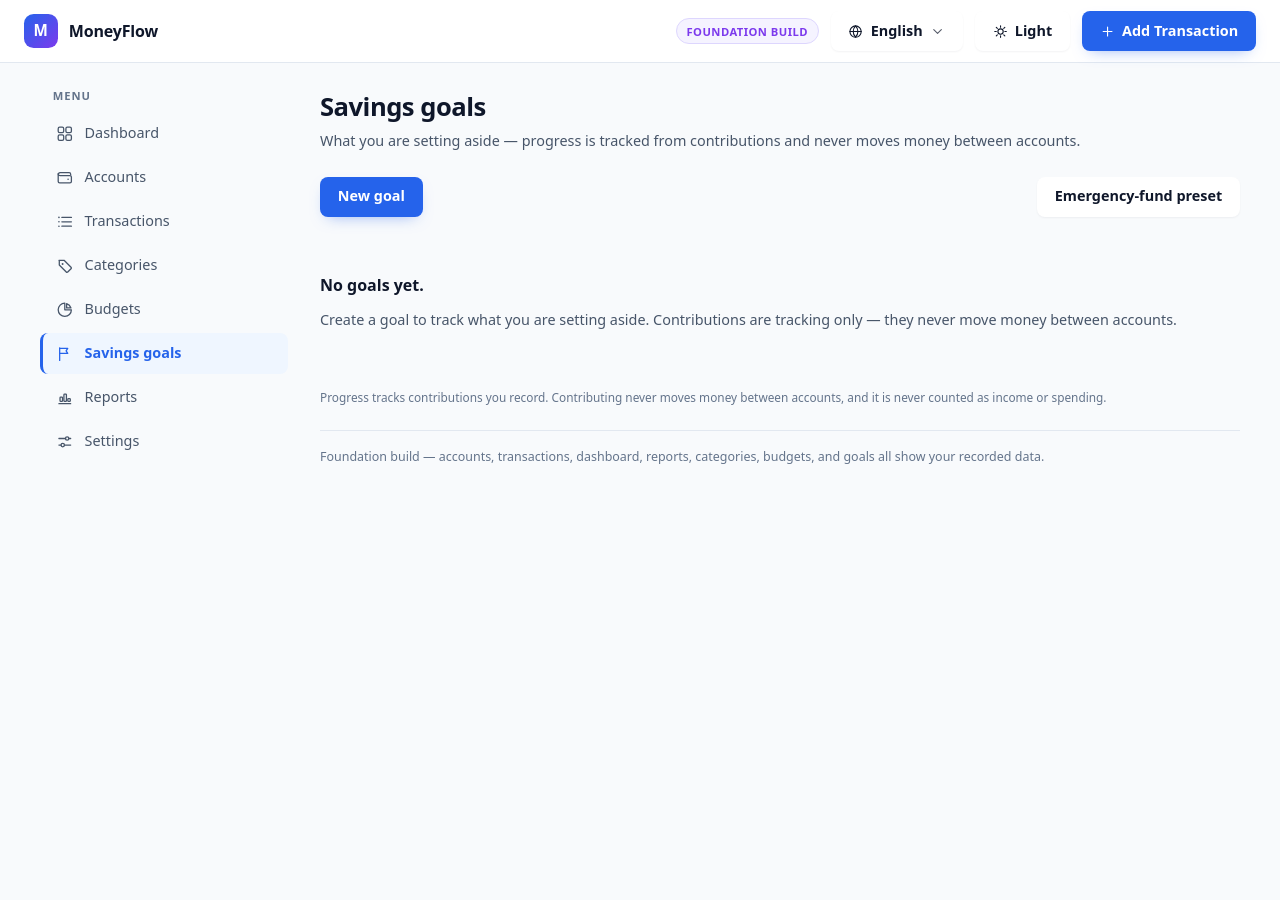
Test case: goals route (wired to the IT-10 goal endpoints) › surfaces a server rejection above the form and keeps it open
The width and height of the screenshot is (1280, 900).
Step 1. Click the button "New goal" → [371, 196], box [320,176,423,216]
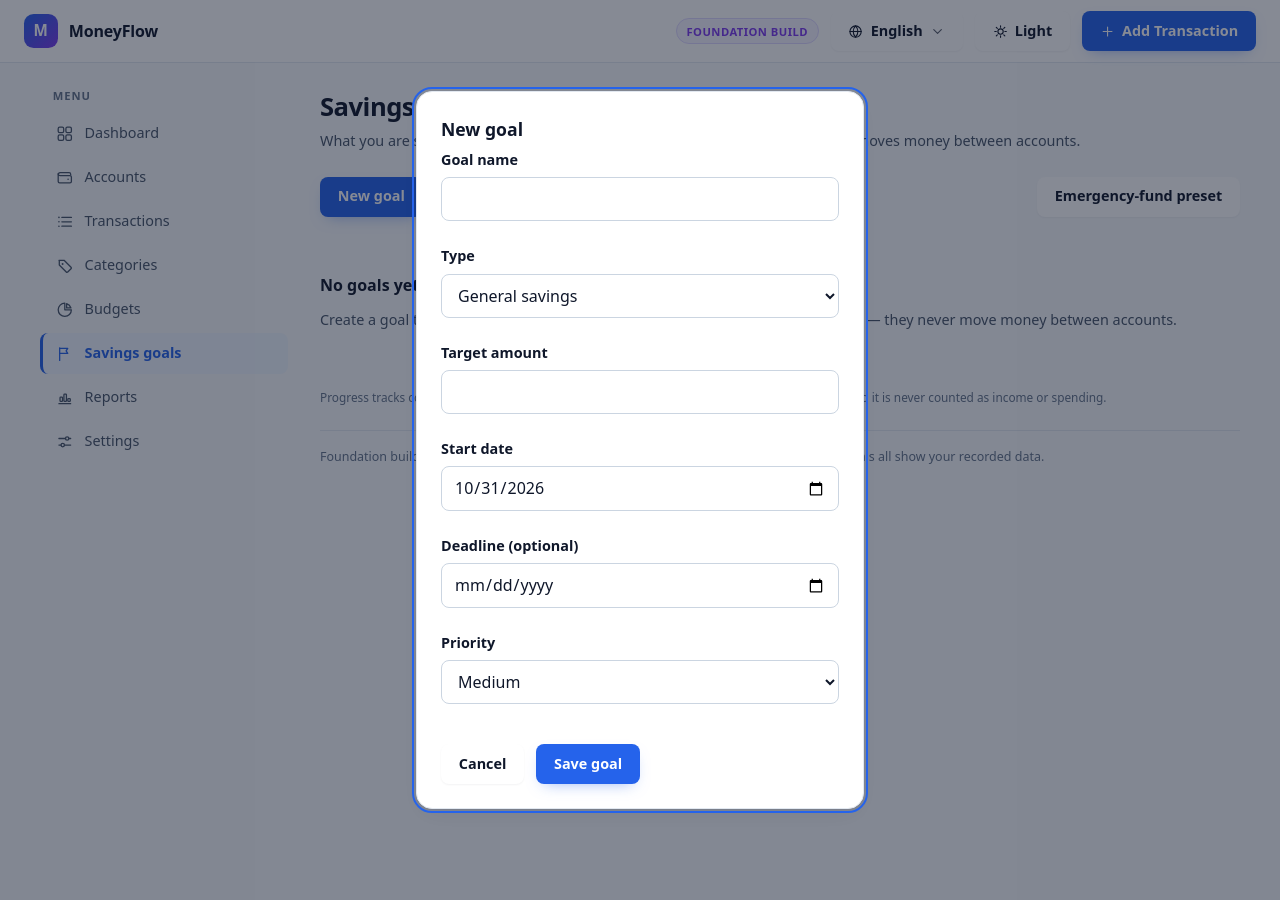
Step 2. Type "Goal" into the field labelled "Goal name" → [640, 199], box [441,177,839,221]
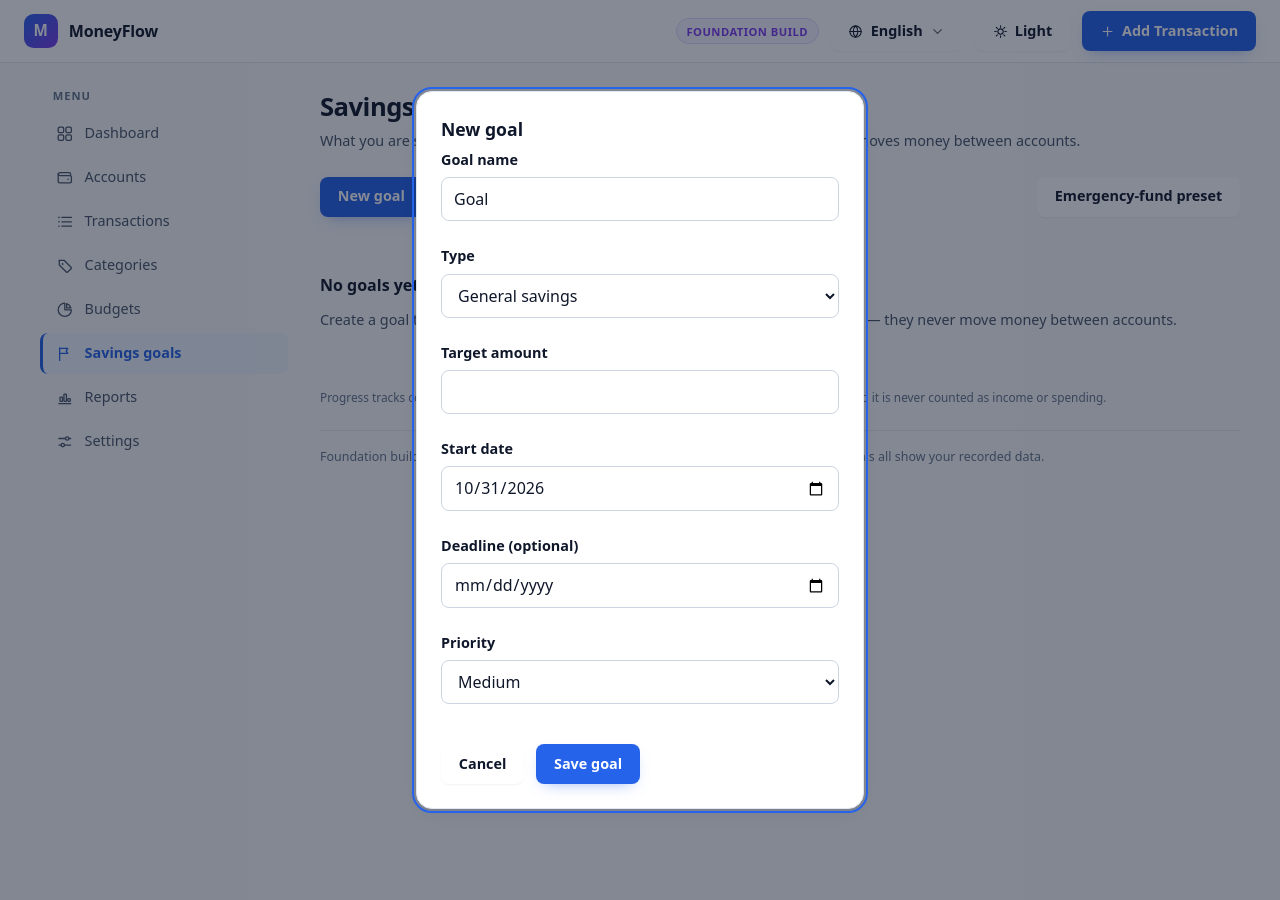
Step 3. Type "100" into the field labelled "Target amount" → [640, 392], box [441,370,839,414]
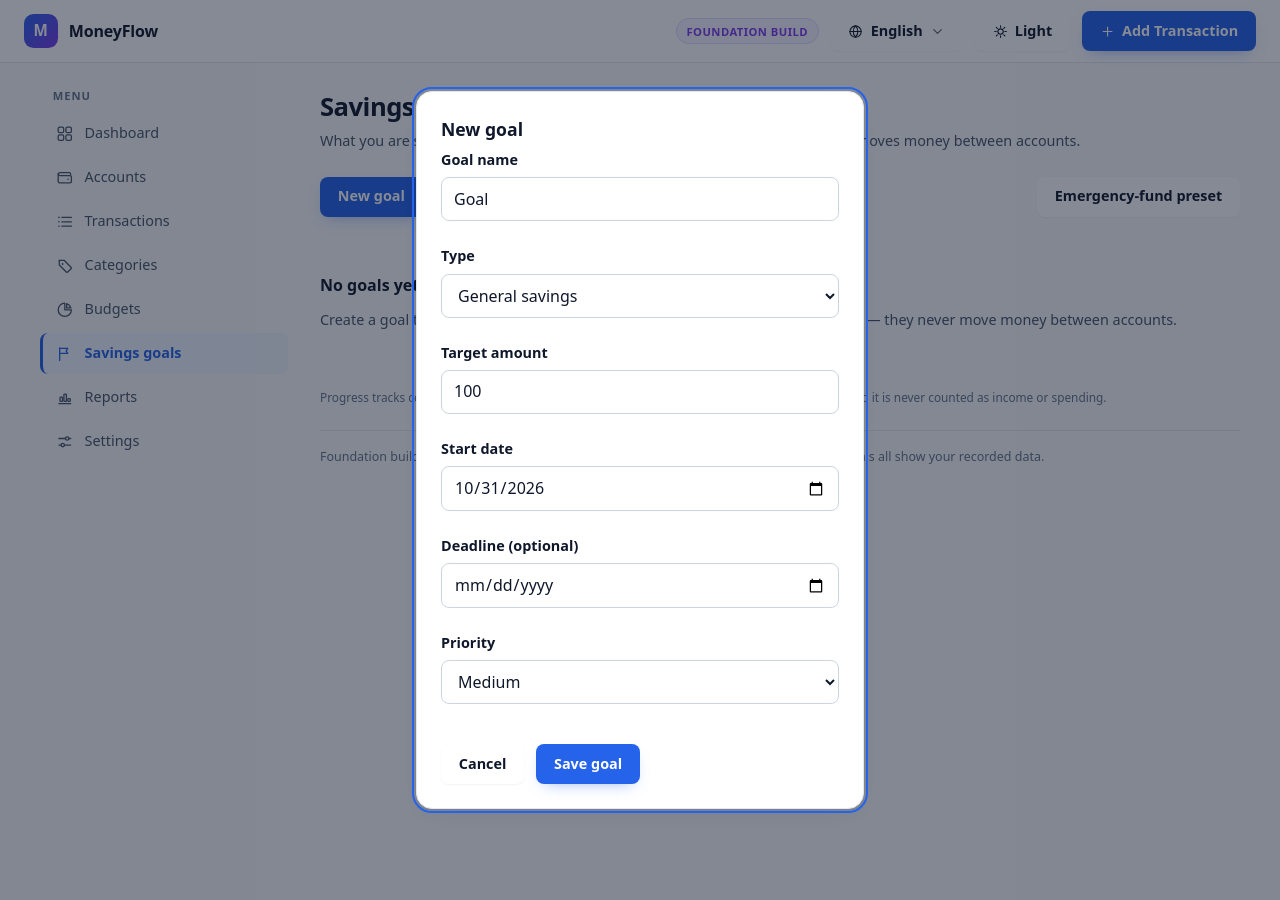
Step 4. Click the button "Save goal" → [588, 764], box [536,744,640,784]
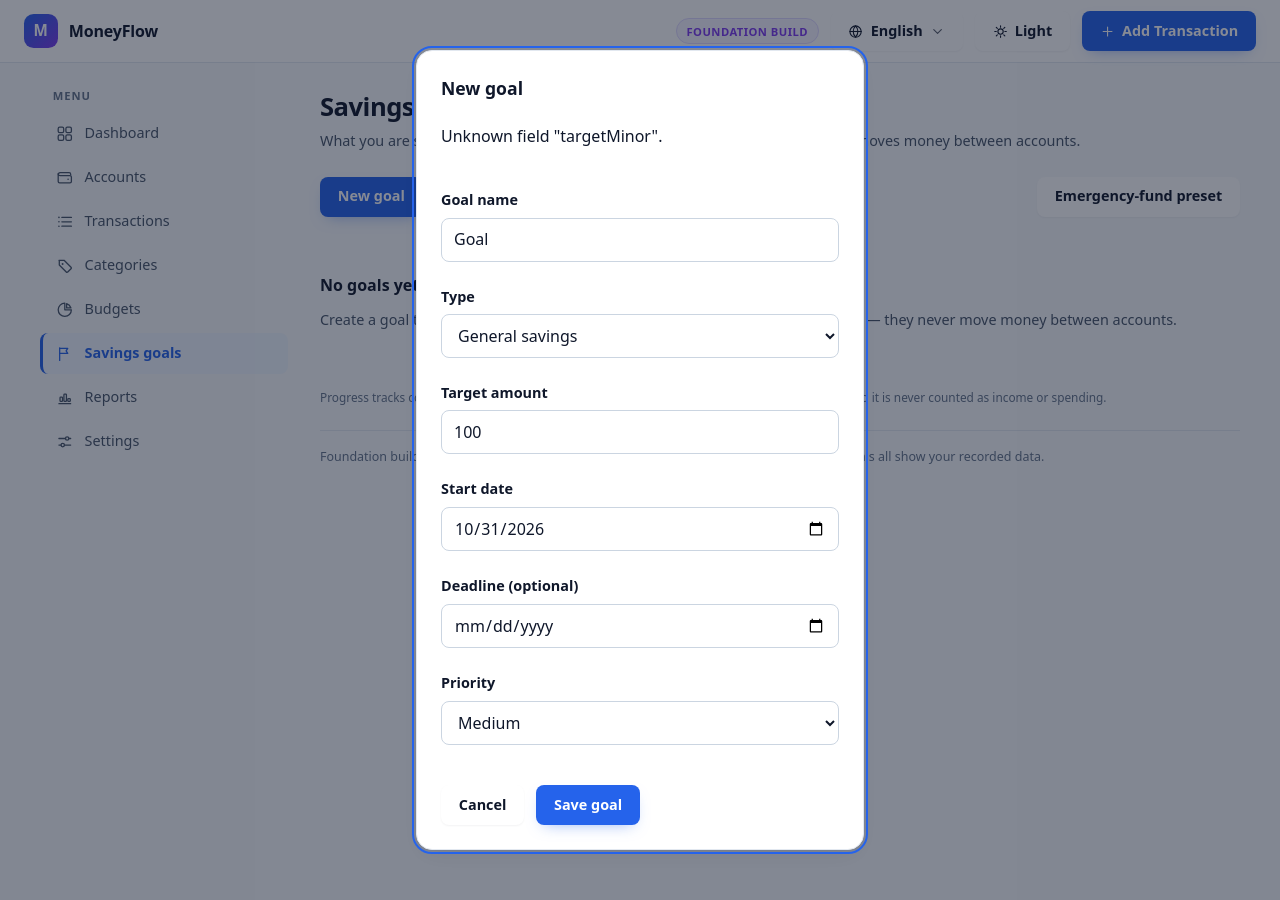
Expected: the button "Save goal" is shown, [536,785,640,825]
Expected: the message reads "Unknown field \"targetMinor\".", [441,126,662,148]
